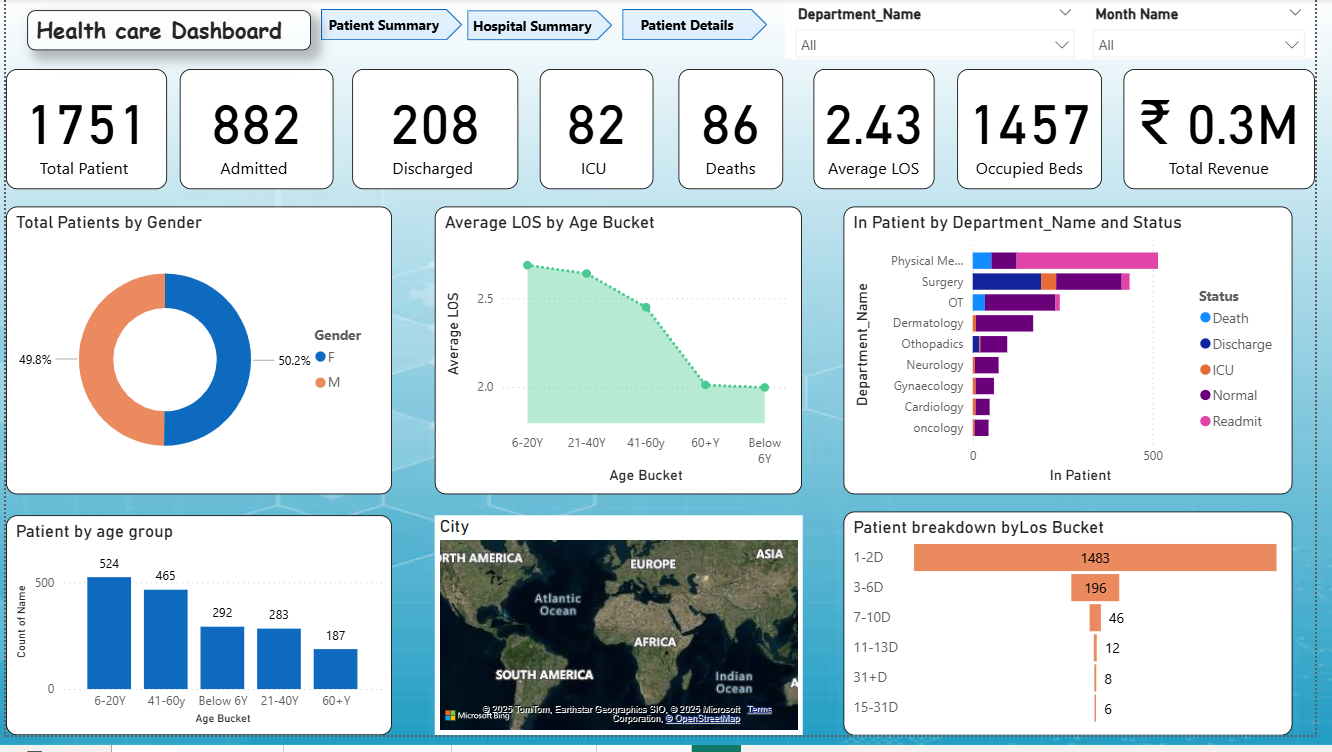

The page's visual inventory and layout, read from the dashboard file:
{"tool":"powerbi","page":{"name":"Patient Summary","canvas":[1280,720],"ordinal":1},"visuals":[{"type":"card","fields":{"Values":["Patients/Admissions.ID"]},"box":[0,68.5,157.7,117.4],"z":0},{"type":"card","fields":{"Values":["Bed_Detail.Admitted Patients"]},"box":[170,68.5,150.4,117.4],"z":1000},{"type":"card","fields":{"Values":["Bed_Detail.Discharged Patients"]},"box":[338.7,68.5,162.6,117.4],"z":2000},{"type":"card","fields":{"Values":["Bed_Detail.ICU Patients"]},"box":[522.1,68.5,111.3,117.4],"z":3000},{"type":"card","fields":{"Values":["Bed_Detail.Deaths"]},"box":[657.9,68.5,102.7,117.4],"z":4000},{"type":"card","fields":{"Values":["Bed_Detail.Average LOS"]},"box":[789.9,68.5,118.6,117.4],"z":6000},{"type":"card","fields":{"Values":["Bed_Detail.Occupied Beds"]},"box":[930.6,68.5,141.8,117.4],"z":7000},{"type":"card","fields":{"Values":["Bed_Detail.Total Revenue"]},"box":[1093.2,68.5,187.1,117.4],"z":8000},{"type":"donutChart","fields":{"Category":["Patients/Admissions.Gender"],"Y":["Patients/Admissions.Bed_ID"]},"box":[0,203,377.9,281.3],"z":9000},{"type":"barChart","fields":{"Y":["Bed_Detail.In Patient"],"Category":["Department.Department_Name"],"Series":["Patients/Admissions.Status"]},"box":[819.3,203,439,281.3],"z":10000},{"type":"columnChart","title":"Patient by age group","fields":{"Category":["Patients/Admissions.Age Bucket"],"Y":["Patients/Admissions.Name"]},"box":[0,505,377.9,215.2],"z":11000},{"type":"areaChart","fields":{"Category":["Patients/Admissions.Age Bucket"],"Y":["Bed_Detail.Average LOS"]},"box":[419.4,203,359.5,281.3],"z":12000},{"type":"funnel","title":"Patient breakdown byLos Bucket ","fields":{"Category":["Patients/Admissions.Custom"],"Y":["Patients/Admissions.Los Bucket"]},"box":[819.3,501.4,439,218.9],"z":13000},{"type":"filledMap","fields":{"Category":["Patients/Admissions.City"]},"box":[419.4,505,359.5,215.2],"z":14000},{"type":"slicer","fields":{"Values":["Department.Department_Name"]},"box":[761.8,1.2,293.5,57.5],"z":15000},{"type":"slicer","fields":{"Values":["Patients/Admissions.Month Name"]},"box":[1052.9,1.2,227.4,57.5],"z":16000},{"type":"shape","box":[308.2,9.8,138.2,30.6],"z":17000},{"type":"textbox","title":"Health care Dashboard","box":[20.8,11,277.6,39.1],"z":18000},{"type":"shape","box":[451.2,11,141.8,29.3],"z":19000},{"type":"shape","box":[602.9,9.8,141.8,30.6],"z":20000}]}

Visuals, with their boxes in screenshot pixels (x1, y1, x2, y2), scaled from the page's 1280x720 canvas onto the 1332x752 screenshot:
card - Patients/Admissions.ID: bbox(0, 72, 164, 194)
card - Bed_Detail.Admitted Patients: bbox(177, 72, 333, 194)
card - Bed_Detail.Discharged Patients: bbox(352, 72, 522, 194)
card - Bed_Detail.ICU Patients: bbox(543, 72, 659, 194)
card - Bed_Detail.Deaths: bbox(685, 72, 791, 194)
card - Bed_Detail.Average LOS: bbox(822, 72, 945, 194)
card - Bed_Detail.Occupied Beds: bbox(968, 72, 1116, 194)
card - Bed_Detail.Total Revenue: bbox(1138, 72, 1331, 194)
donutChart - Patients/Admissions.Gender x Patients/Admissions.Bed_ID: bbox(0, 212, 393, 506)
barChart - Bed_Detail.In Patient x Department.Department_Name: bbox(853, 212, 1309, 506)
"Patient by age group" columnChart: bbox(0, 527, 393, 751)
areaChart - Patients/Admissions.Age Bucket x Bed_Detail.Average LOS: bbox(436, 212, 811, 506)
"Patient breakdown byLos Bucket " funnel: bbox(853, 524, 1309, 751)
filledMap - Patients/Admissions.City: bbox(436, 527, 811, 751)
slicer - Department.Department_Name: bbox(793, 1, 1098, 61)
slicer - Patients/Admissions.Month Name: bbox(1096, 1, 1331, 61)
shape: bbox(321, 10, 465, 42)
"Health care Dashboard" textbox: bbox(22, 11, 311, 52)
shape: bbox(470, 11, 617, 42)
shape: bbox(627, 10, 775, 42)
